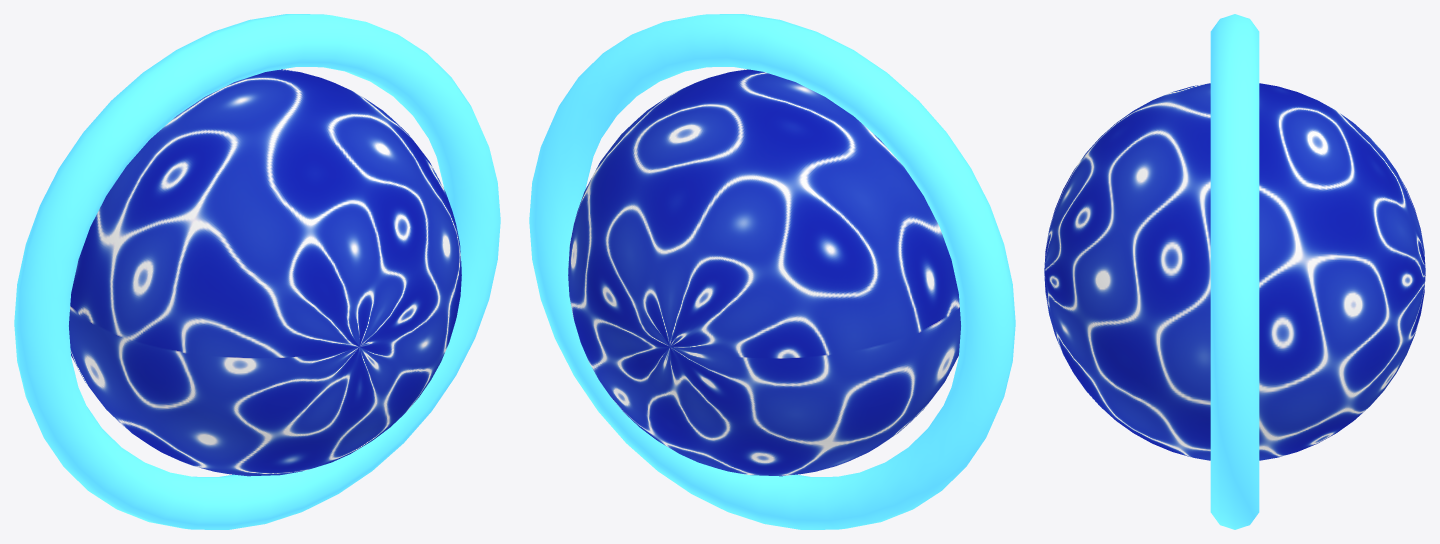
File: portal.glb
The picture shows the model from 3 angles, left to right: view 1: azimuth 30°, elevation 25°; view 2: azimuth 150°, elevation 25°; view 3: azimuth 270°, elevation 25°; orthographic projection. The views are drawn at different scales.
Parts seen in each view (by area): view 1: Portal; view 2: Portal; view 3: Portal.
Part boxes in pixels (x1,y1,x2,y2): Portal: [14, 14, 500, 529]; Portal: [529, 14, 1015, 529]; Portal: [1044, 14, 1425, 529].
Size of the model in its own units: 2.22 by 2.22 by 1.64.
2 materials, 1 textured.
